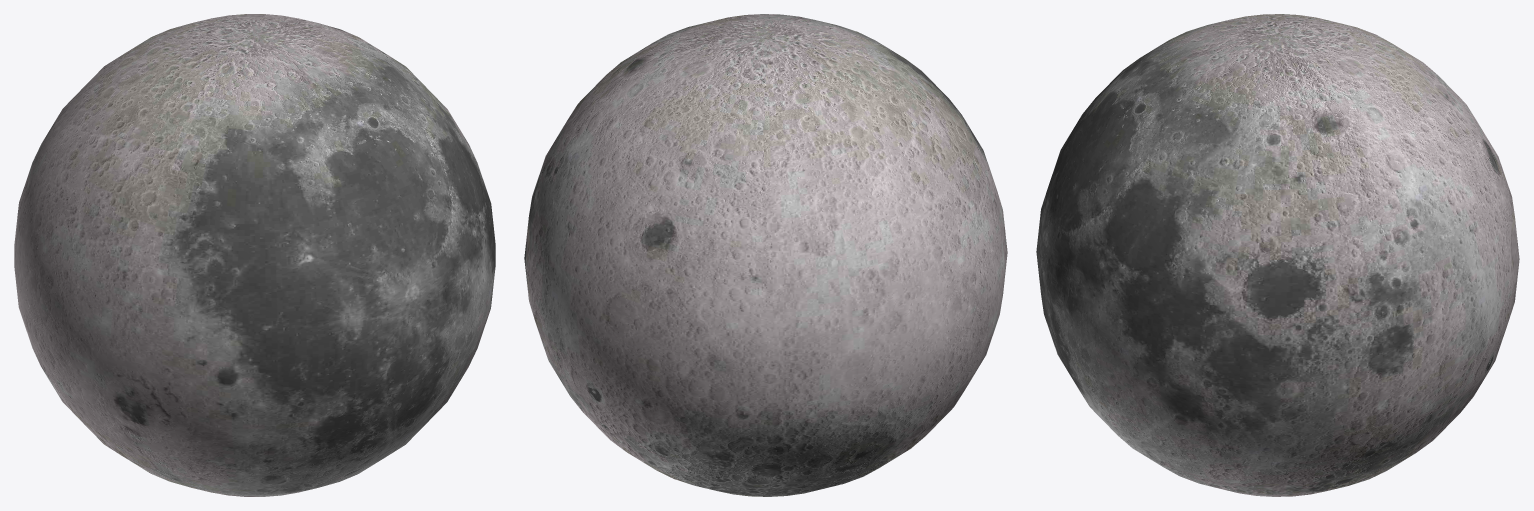
Rendered from Moon.fbx.
3 views of the same model, side by side, from view 1: azimuth 30°, elevation 25°; view 2: azimuth 150°, elevation 25°; view 3: azimuth 270°, elevation 25° (orthographic).
Parts seen in each view (by area): view 1: Moon; view 2: Moon; view 3: Moon.
Boxes of the visible parts, box(x1,y1,x2,y2) form: Moon: box(14, 14, 495, 496); Moon: box(524, 14, 1007, 496); Moon: box(1036, 14, 1519, 496).
Bounding box in the file's own units: 314 × 314 × 314.
